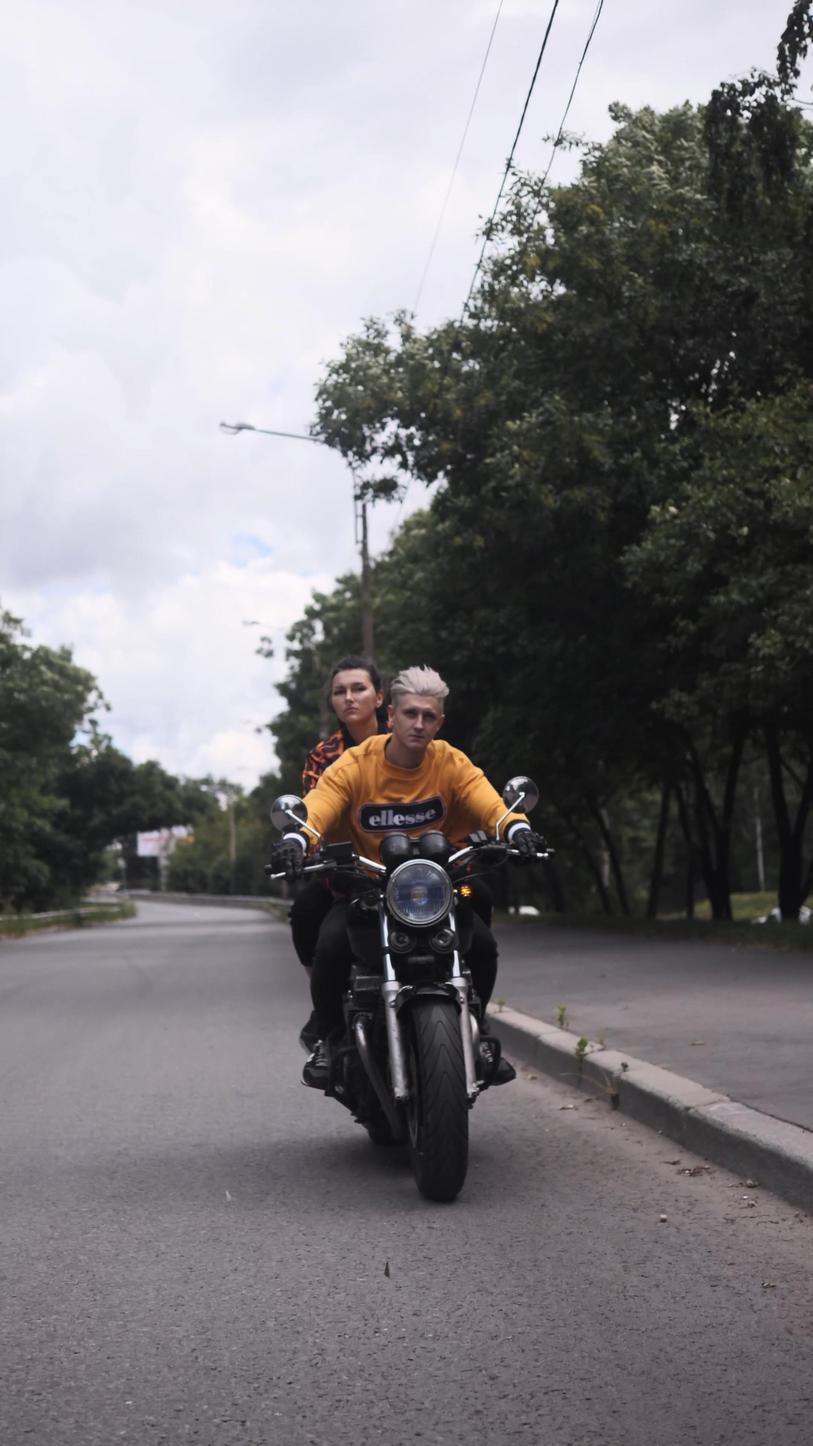driver: (262, 653, 556, 1204)
no-helmet: (387, 664, 450, 749), (326, 656, 384, 725)
